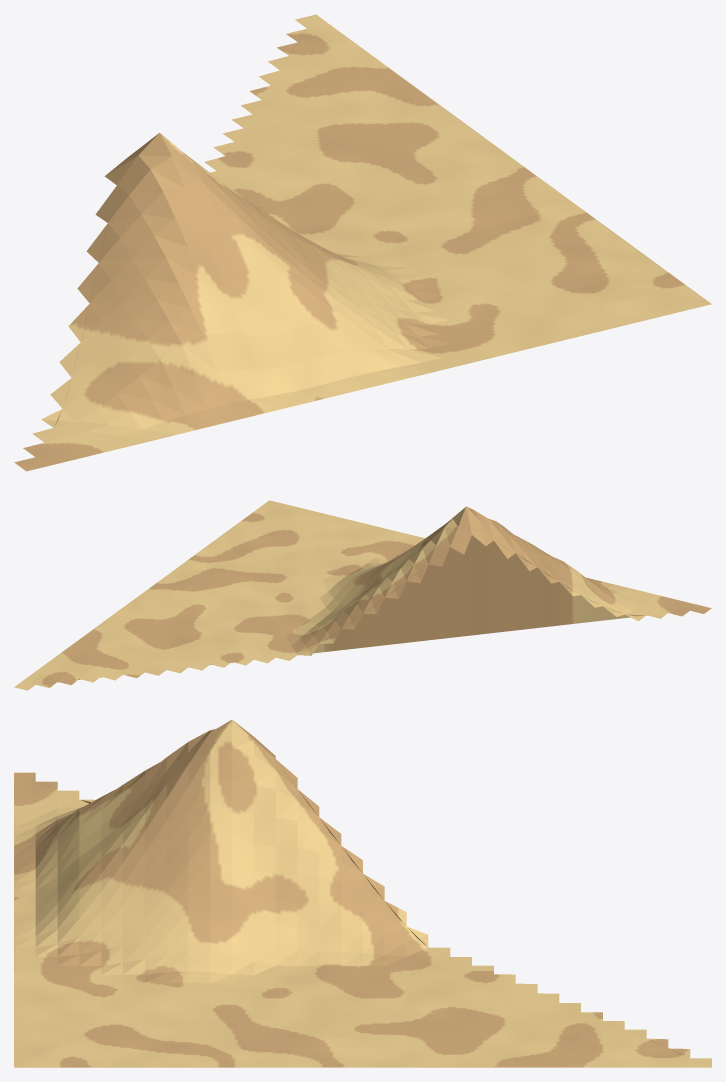
File: Desert_Mountains_07_NE.obj
3 views of the same model, one above another, from view 1: azimuth 30°, elevation 25°; view 2: azimuth 150°, elevation 25°; view 3: azimuth 270°, elevation 25° (orthographic). The views are drawn at different scales.
Bounding box in the file's own units: 10 × 2.59 × 10.
Materials: 1 (1 with a texture image).
